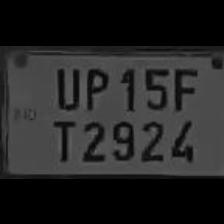1: (112, 61, 138, 112)
2: (76, 115, 106, 161), (135, 115, 164, 161)
4: (166, 114, 195, 162)
5: (138, 62, 170, 110)
9: (107, 114, 135, 160)
F: (168, 64, 196, 110)
P: (80, 61, 110, 112)
T: (46, 114, 78, 162)
U: (49, 60, 81, 110)
